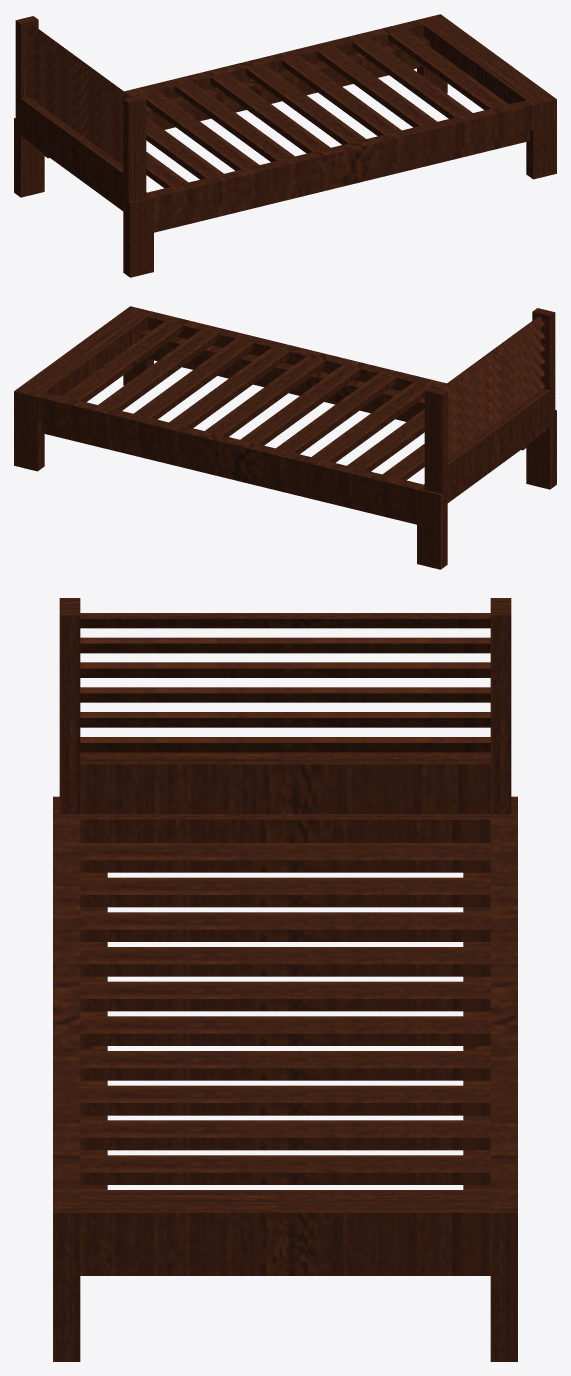
File: bednew.fbx
3 views of the same model, one above another, from view 1: azimuth 30°, elevation 25°; view 2: azimuth 150°, elevation 25°; view 3: azimuth 270°, elevation 25° (orthographic). The views are drawn at different scales.
Visible parts, largest first — view 1: cube_17, cube, cube_1, cube_20, cube_9, cube_7, cube_23, cube_25, cube_27, cube_24, cube_26, cube_16 (+18 smaller); view 2: cube_20, cube_21, cube_1, cube_17, cube_9, cube_8, cube_23, cube_25, cube_27, cube_24, cube_26, cube_16 (+18 smaller); view 3: cube_1, cube_9, cube_23, cube_24, cube_27, cube_30, cube_16, cube_25, cube_26, cube_28, cube_29, cube_31 (+16 smaller).
Boxes of the visible parts, x1,y1,x2,y2 form: cube_17: [147, 100, 533, 222]; cube: [154, 130, 529, 232]; cube_1: [423, 19, 549, 104]; cube_20: [124, 20, 423, 98]; cube_9: [21, 96, 123, 197]; cube_7: [123, 95, 146, 201]; cube_23: [352, 38, 472, 118]; cube_25: [281, 55, 401, 136]; cube_27: [210, 73, 330, 153]; cube_24: [317, 46, 437, 127]; cube_26: [246, 64, 365, 144]; cube_16: [388, 29, 508, 110]; cube_20: [37, 392, 423, 514]; cube_21: [41, 422, 416, 524]; cube_1: [21, 311, 147, 396]; cube_17: [147, 312, 446, 390]; cube_9: [447, 388, 549, 489]; cube_8: [424, 387, 447, 493]; cube_23: [98, 330, 218, 410]; cube_25: [169, 347, 289, 428]; cube_27: [240, 365, 360, 445]; cube_24: [133, 338, 253, 419]; cube_26: [205, 356, 324, 436]; cube_16: [62, 321, 182, 402]; cube_1: [80, 1190, 490, 1262]; cube_9: [80, 752, 490, 813]; cube_23: [80, 1120, 490, 1150]; cube_24: [80, 1085, 490, 1115]; cube_27: [80, 981, 490, 1011]; cube_30: [80, 877, 490, 907]; cube_16: [80, 1155, 490, 1184]; cube_25: [80, 1051, 490, 1080]; cube_26: [80, 1016, 490, 1045]; cube_28: [80, 947, 490, 976]; cube_29: [80, 912, 490, 941]; cube_31: [80, 843, 490, 872].
Size of the model in its own units: 225 by 87.5 by 106.
